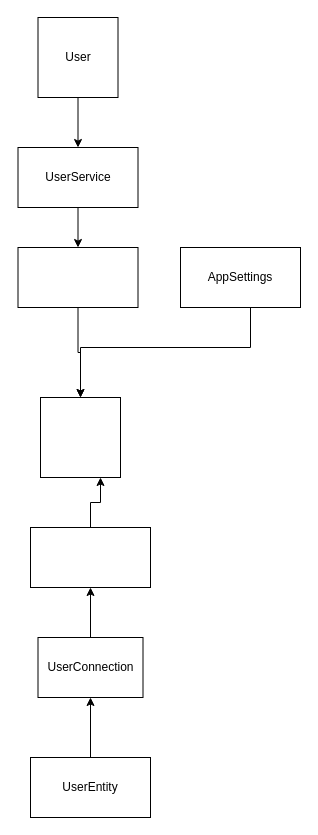
The diagram is 318 pixels wide and 835 high, and some of its shapes have lost their labels. The centre of each missing label's shape, as x and y in pixels:
Service: the point at 77,277
Storage: the point at 80,437
UserStorage: the point at 90,557
